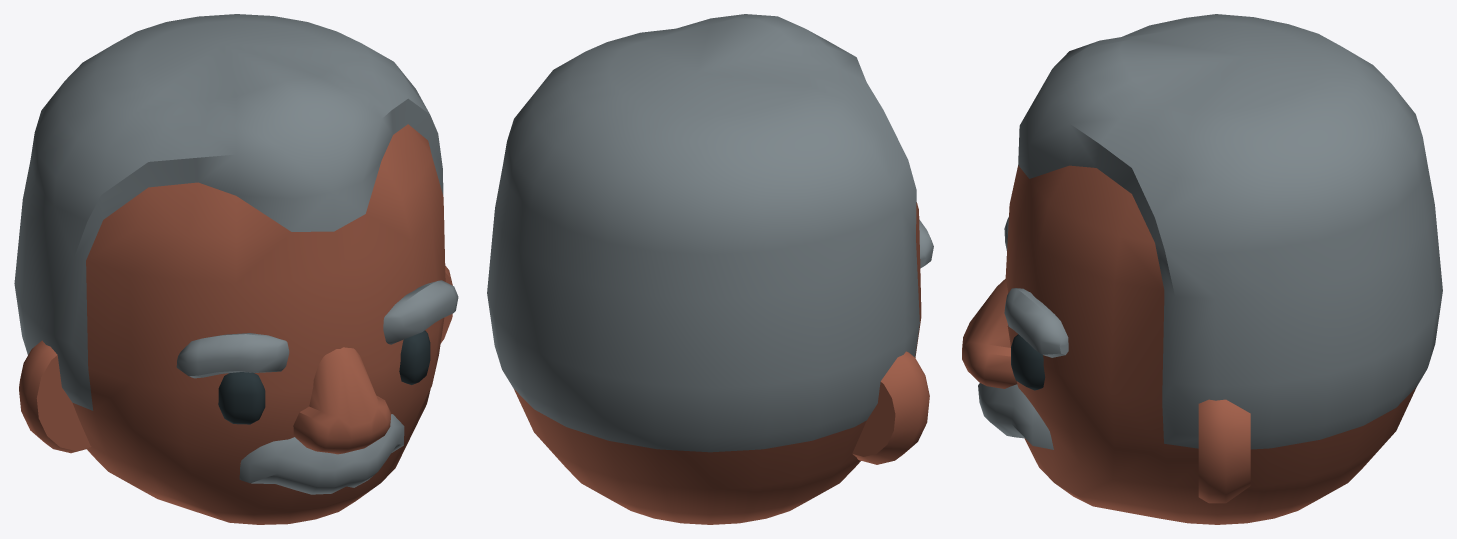
Rendered from character_policeman_headB.gltf.glb.
The picture shows the model from 3 angles, left to right: view 1: azimuth 30°, elevation 25°; view 2: azimuth 150°, elevation 25°; view 3: azimuth 270°, elevation 25°; orthographic projection.
Visible parts, largest first — view 1: character_policeman_headB; view 2: character_policeman_headB; view 3: character_policeman_headB.
Boxes of the visible parts, left/top/right/bottom form: character_policeman_headB: left=14, top=14, right=458, bottom=524; character_policeman_headB: left=487, top=14, right=933, bottom=524; character_policeman_headB: left=962, top=14, right=1442, bottom=524.
Size of the model in its own units: 1.18 by 1.12 by 1.13.
